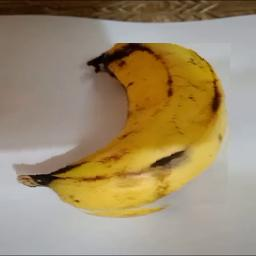Banana Semifresh: (16, 43, 231, 218)
